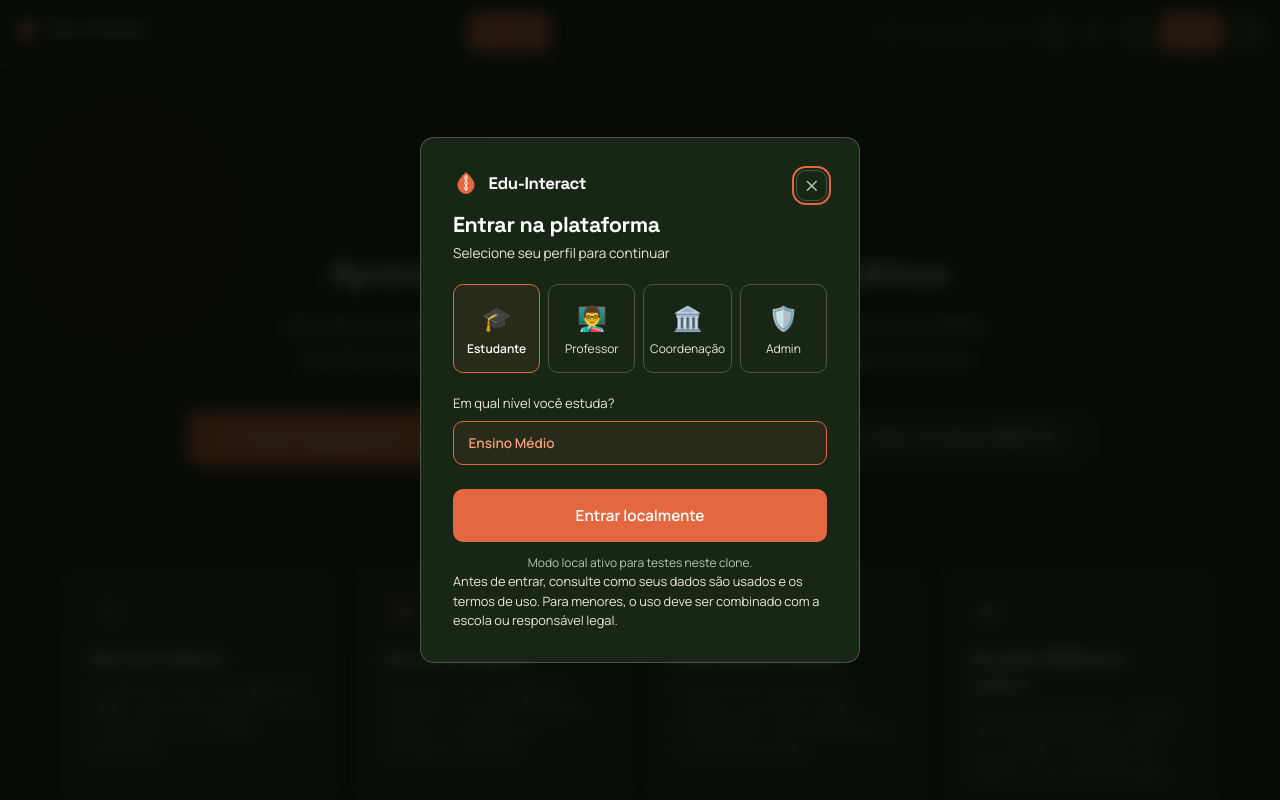
it: login continuity › returns to the complete requested link after signing in
The image size is (1280, 800).
Expected: the dialog "Entrar na plataforma" is shown, [420,137,860,663]
Click the button "Entrar localmente" at (640, 516), box [453,489,827,542]
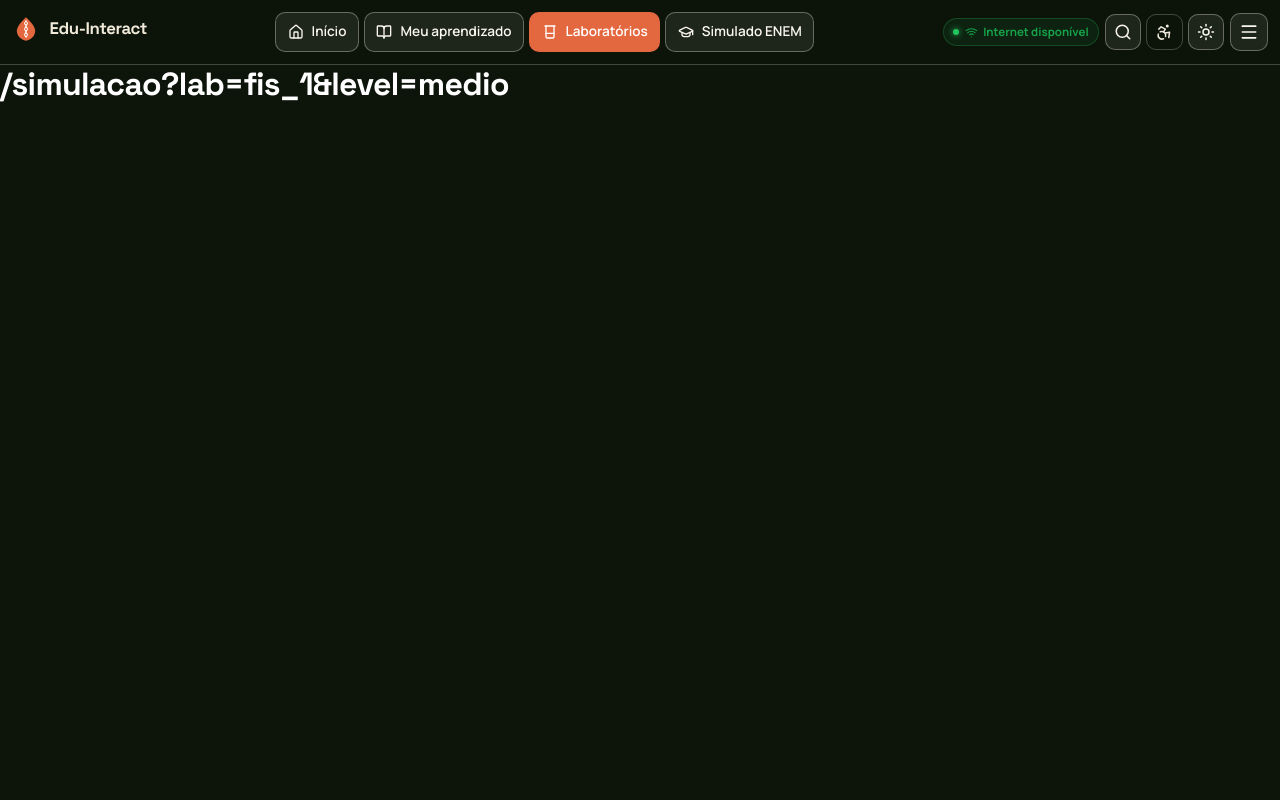
Expected: the heading "/simulacao?lab=fis_1&level=medio" is shown, [0,64,509,104]
Expected: the dialog is gone
